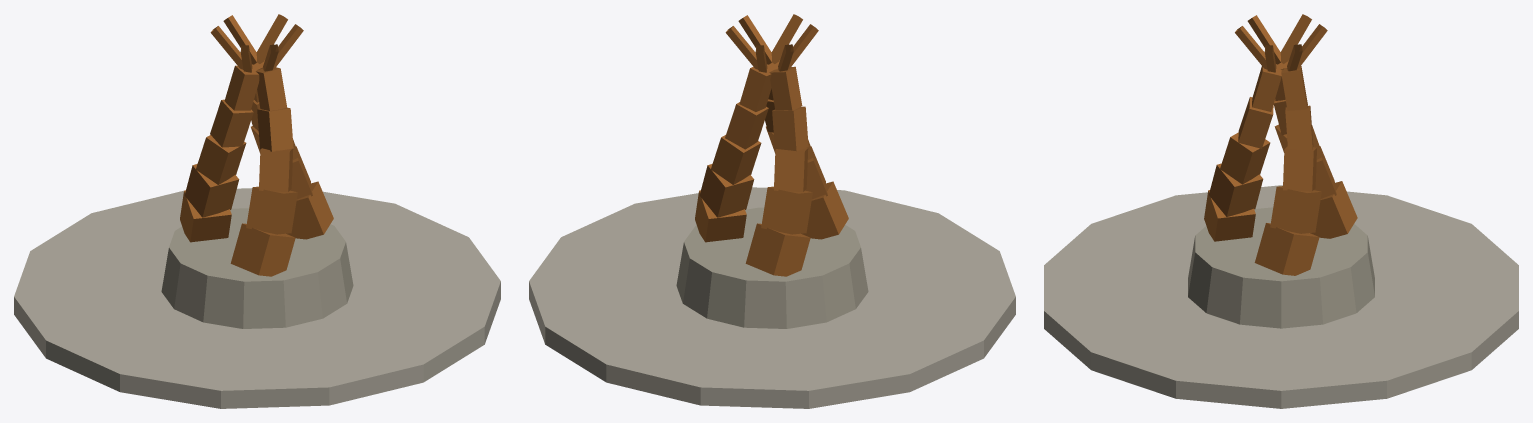
Rendered from tugu-selais-lod1.glb.
The picture shows the model from 3 angles, left to right: view 1: azimuth 30°, elevation 25°; view 2: azimuth 150°, elevation 25°; view 3: azimuth 270°, elevation 25°; orthographic projection.
Parts seen in each view (by area): view 1: tugu-selais_LOD1; view 2: tugu-selais_LOD1; view 3: tugu-selais_LOD1.
Boxes of the visible parts, bbox=[...] form: tugu-selais_LOD1: bbox=[14, 14, 500, 408]; tugu-selais_LOD1: bbox=[529, 14, 1015, 408]; tugu-selais_LOD1: bbox=[1044, 14, 1518, 408].
Size of the model in its own units: 22 by 13.82 by 21.45.
